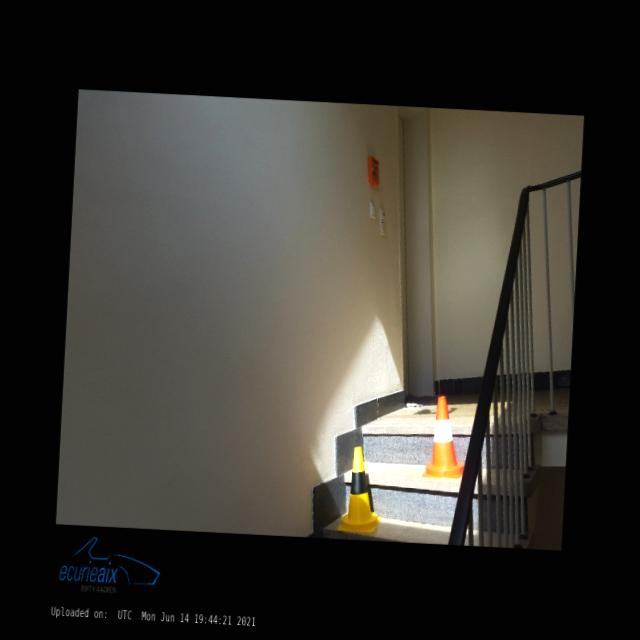orange_cone: (422, 395, 468, 479)
yellow_cone: (338, 446, 383, 534)
